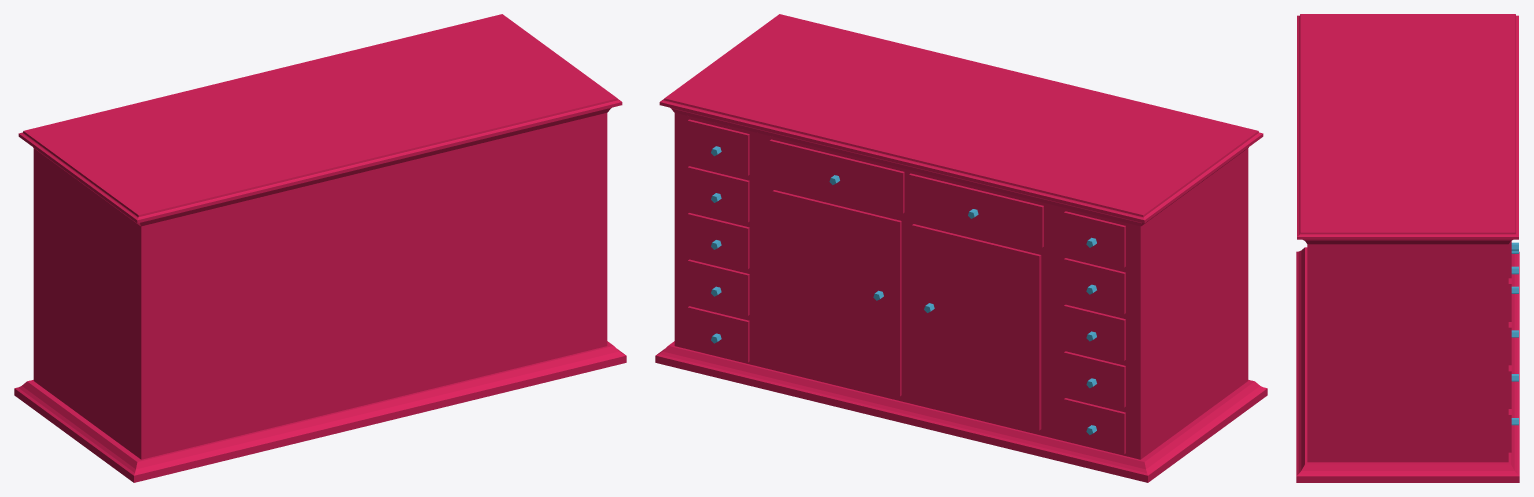
The model's file is Cabinet.fbx.
The picture shows the model from 3 angles, left to right: view 1: azimuth 30°, elevation 25°; view 2: azimuth 150°, elevation 25°; view 3: azimuth 270°, elevation 25°; orthographic projection. The views are drawn at different scales.
Parts seen in each view (by area): view 1: Cabinet; view 2: Cabinet; view 3: Cabinet.
Boxes of the visible parts, x1,y1,x2,y2 form: Cabinet: (14, 14, 626, 482); Cabinet: (655, 14, 1267, 482); Cabinet: (1296, 14, 1519, 482).
Size of the model in its own units: 166 by 85 by 69.66.
